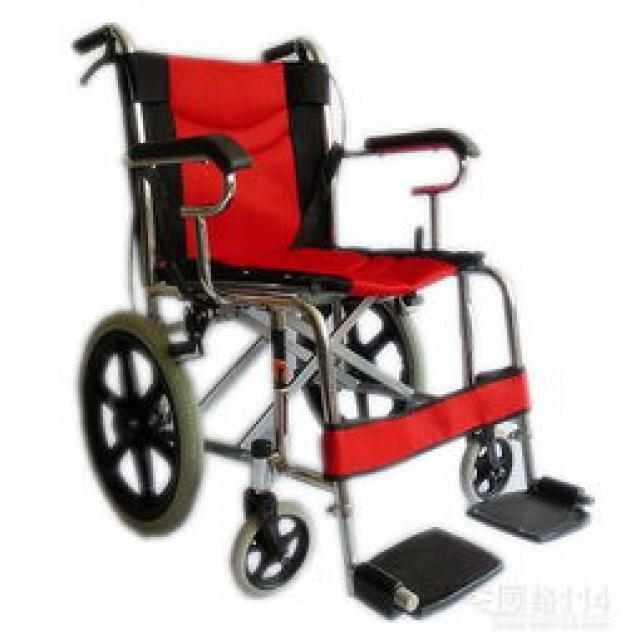wheelchair: (58, 20, 598, 623)
